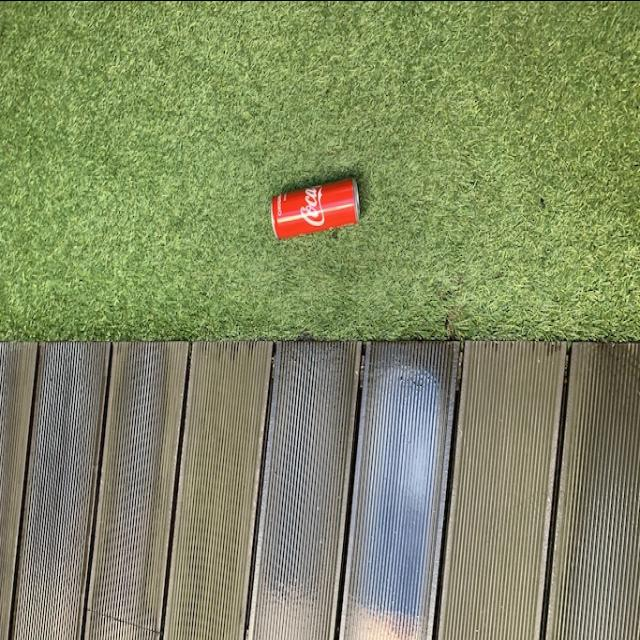litter: (266, 164, 368, 246)
